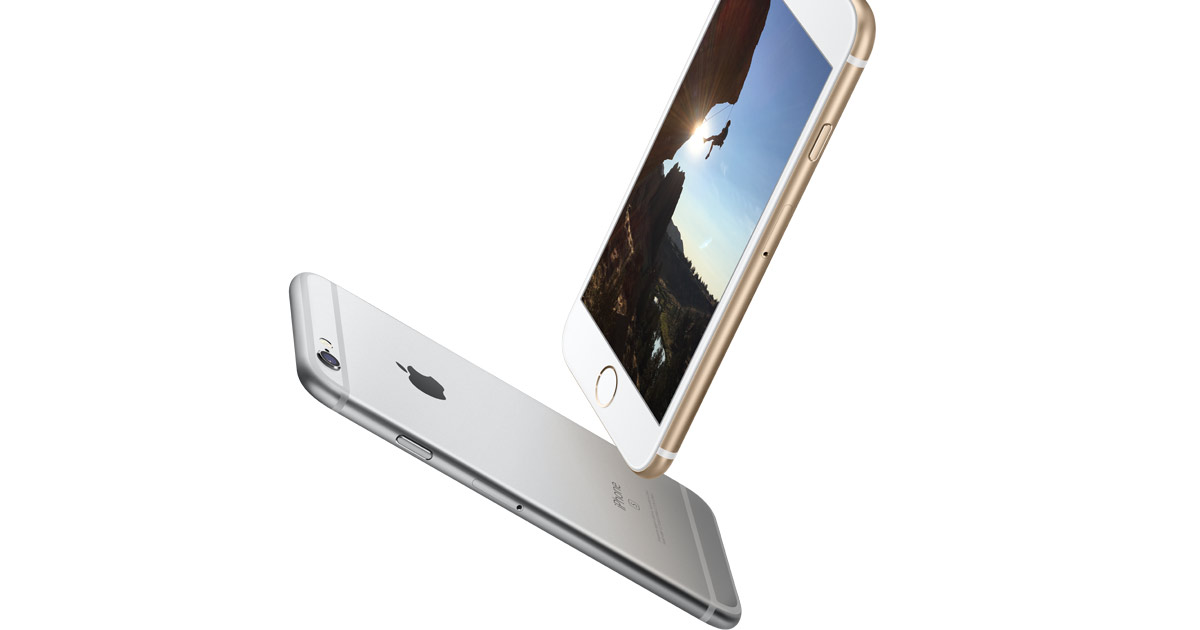smartphone: (289, 272, 742, 630), (560, 1, 877, 478)
